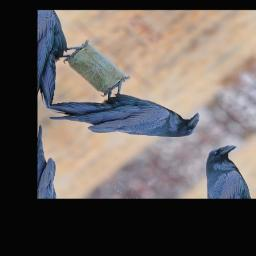Crow: (42, 46, 210, 187)
